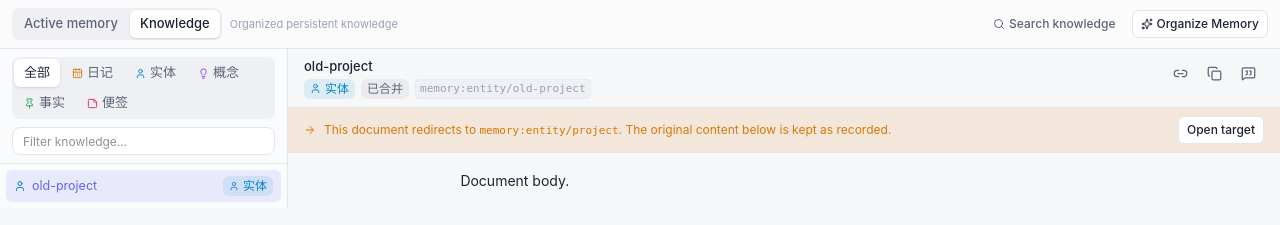
MemoryPage documents › keeps the redirect original and offers an explicit target entry
The image size is (1280, 225).
Click the button "Open target" at (1221, 130), box [1178,116,1264,144]
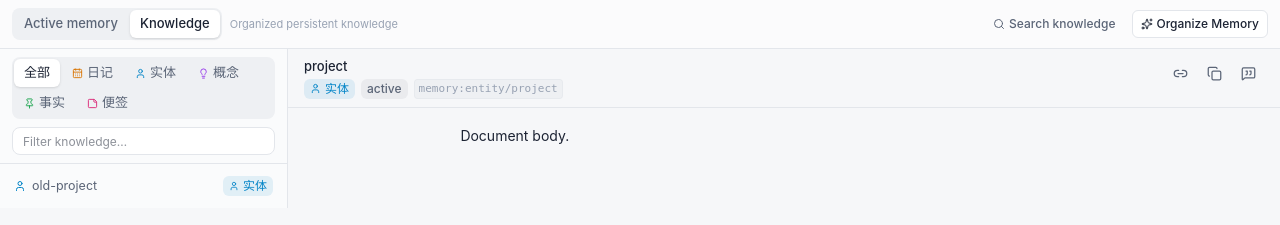
expect the text "memory:entity/project" is shown: met, box [414,78,563,99]
expect the text "This document redirects to" is gone: met
